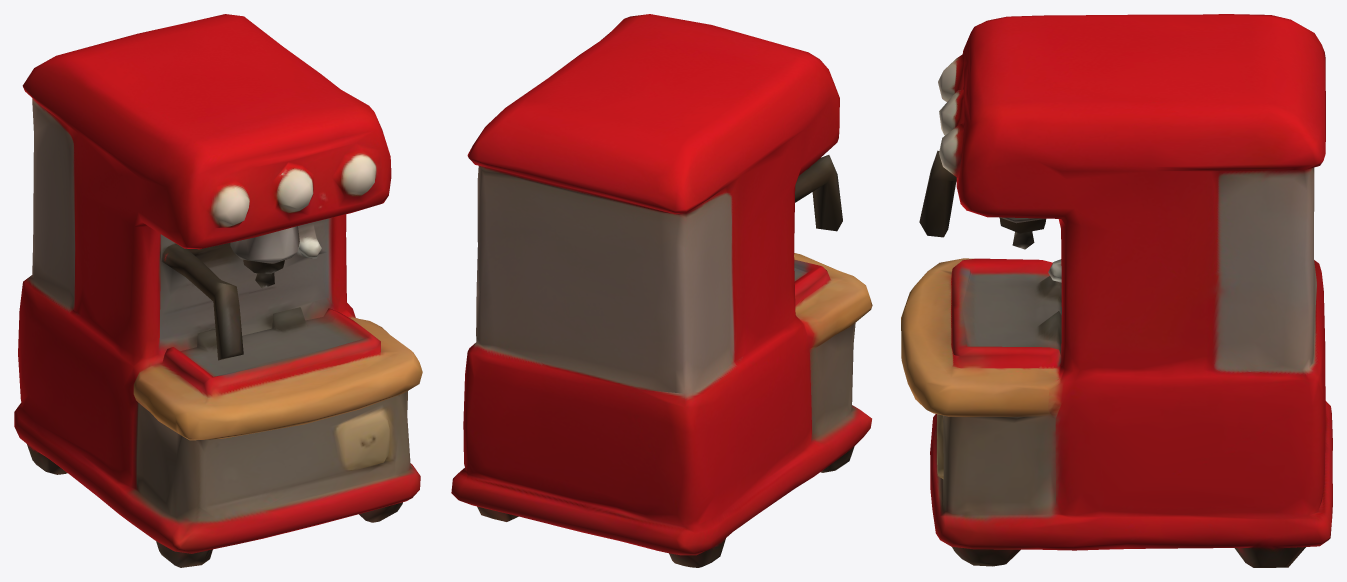
Rendered from machine_cafe.glb.
The picture shows the model from 3 angles, left to right: view 1: azimuth 30°, elevation 25°; view 2: azimuth 150°, elevation 25°; view 3: azimuth 270°, elevation 25°; orthographic projection. The views are drawn at different scales.
Parts seen in each view (by area): view 1: machine_cafe; view 2: machine_cafe; view 3: machine_cafe.
Part boxes in pixels (x1=…): machine_cafe: x1=14, y1=14, x2=422, y2=567; machine_cafe: x1=451, y1=14, x2=872, y2=567; machine_cafe: x1=901, y1=14, x2=1332, y2=567.
Size of the model in its own units: 0.1662 by 0.2536 by 0.2175.
Materials: 1 (1 with a texture image).
